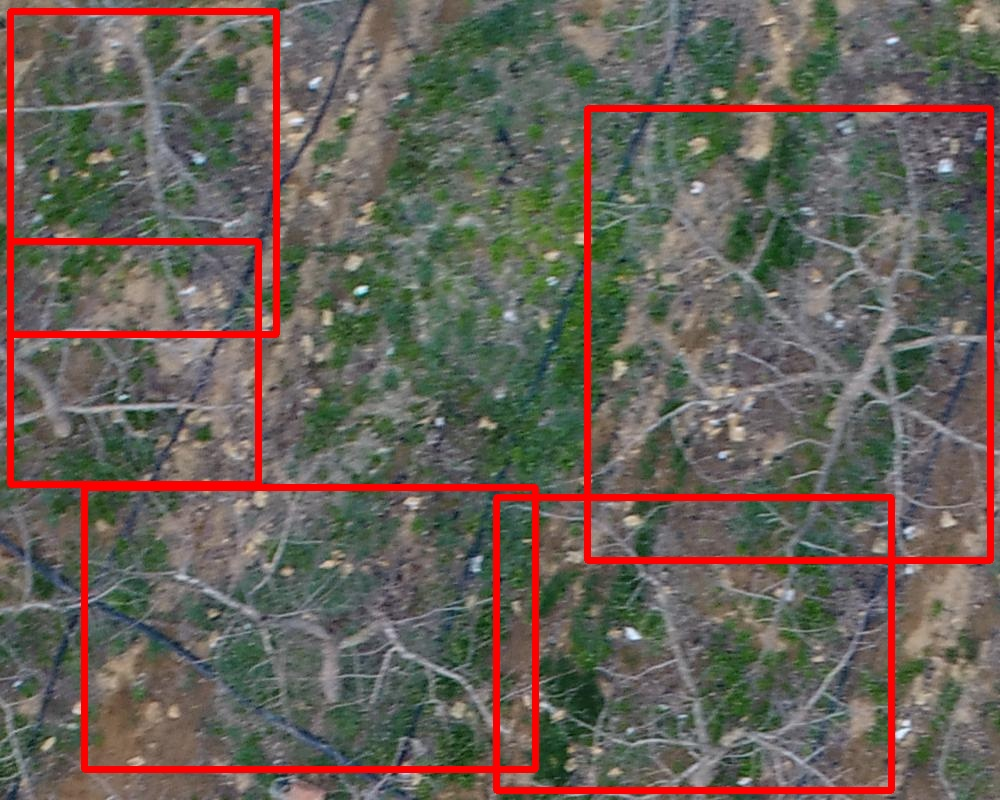apple: (587, 108, 990, 560), (84, 487, 535, 769), (496, 497, 891, 790), (10, 11, 276, 334), (10, 241, 258, 484)
